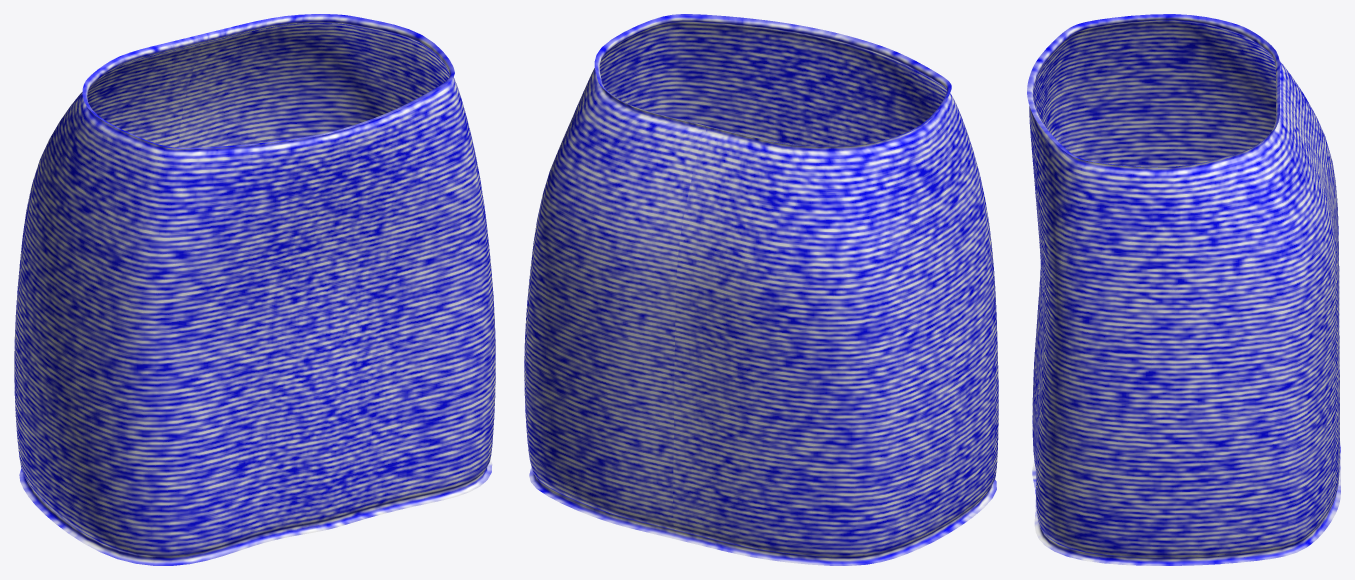
The model's file is skirt22less.obj.
3 views of the same model, side by side, from view 1: azimuth 30°, elevation 25°; view 2: azimuth 150°, elevation 25°; view 3: azimuth 270°, elevation 25° (orthographic). The views are drawn at different scales.
Visible parts, largest first — view 1: A3skirt01; view 2: A3skirt01; view 3: A3skirt01.
Part boxes in pixels (bbox=[...]): A3skirt01: bbox=[14, 14, 495, 565]; A3skirt01: bbox=[524, 14, 998, 565]; A3skirt01: bbox=[1027, 14, 1340, 565].
Bounding box in the file's own units: 0.1323 × 0.1228 × 0.0907.
Materials: 1 (1 with a texture image).
